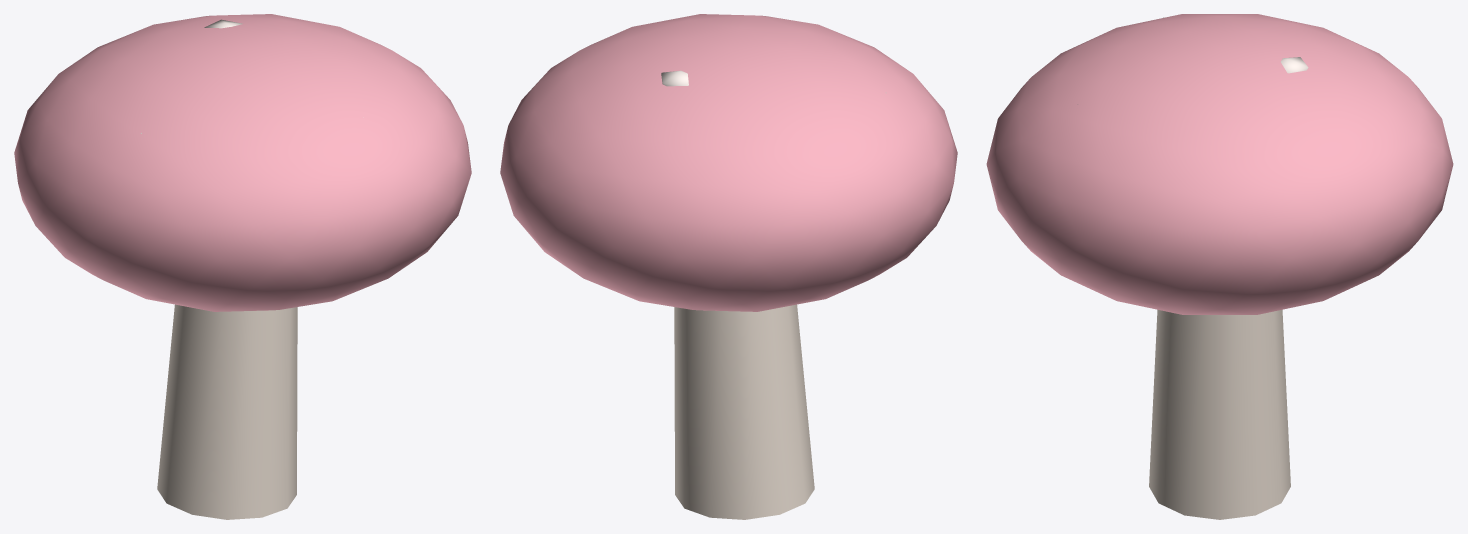
Rendered from giant_mushroom.glb.
3 renders of one model, left to right at view 1: azimuth 30°, elevation 25°; view 2: azimuth 150°, elevation 25°; view 3: azimuth 270°, elevation 25°, orthographic.
Visible parts, largest first — view 1: GiantMushroom; view 2: GiantMushroom; view 3: GiantMushroom.
Part boxes in pixels (x1,y1,x2,y2): GiantMushroom: (14, 14, 471, 519); GiantMushroom: (500, 14, 957, 519); GiantMushroom: (986, 14, 1453, 519).
Size of the model in its own units: 2.5 by 2.66 by 2.5.
